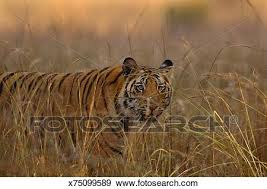Tiger: (1, 55, 177, 168)
